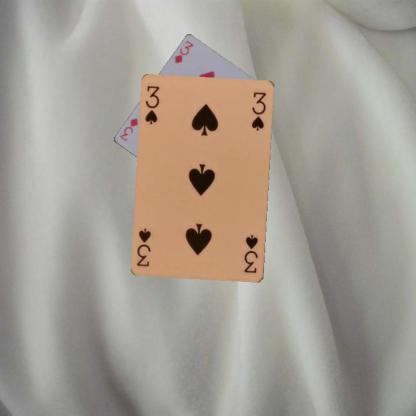3d: (172, 38, 195, 65)
3s: (242, 232, 260, 274), (142, 84, 160, 126)
